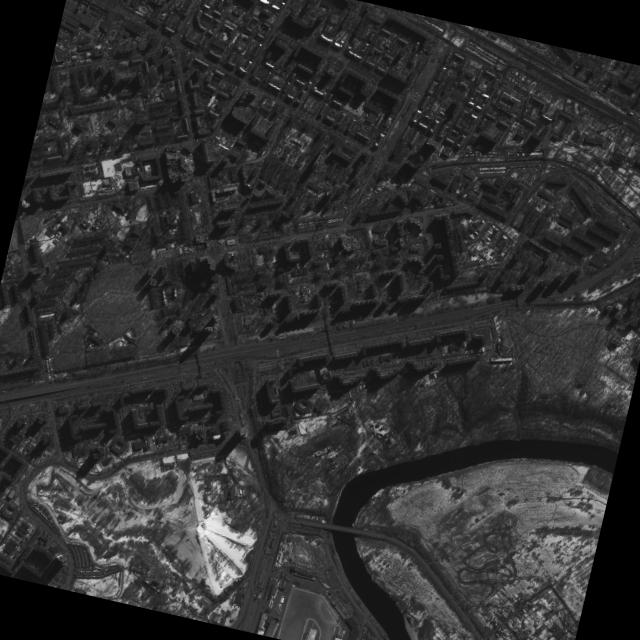storage-tank: (630, 319, 637, 327), (614, 313, 622, 320), (225, 609, 231, 616), (606, 305, 612, 311)
